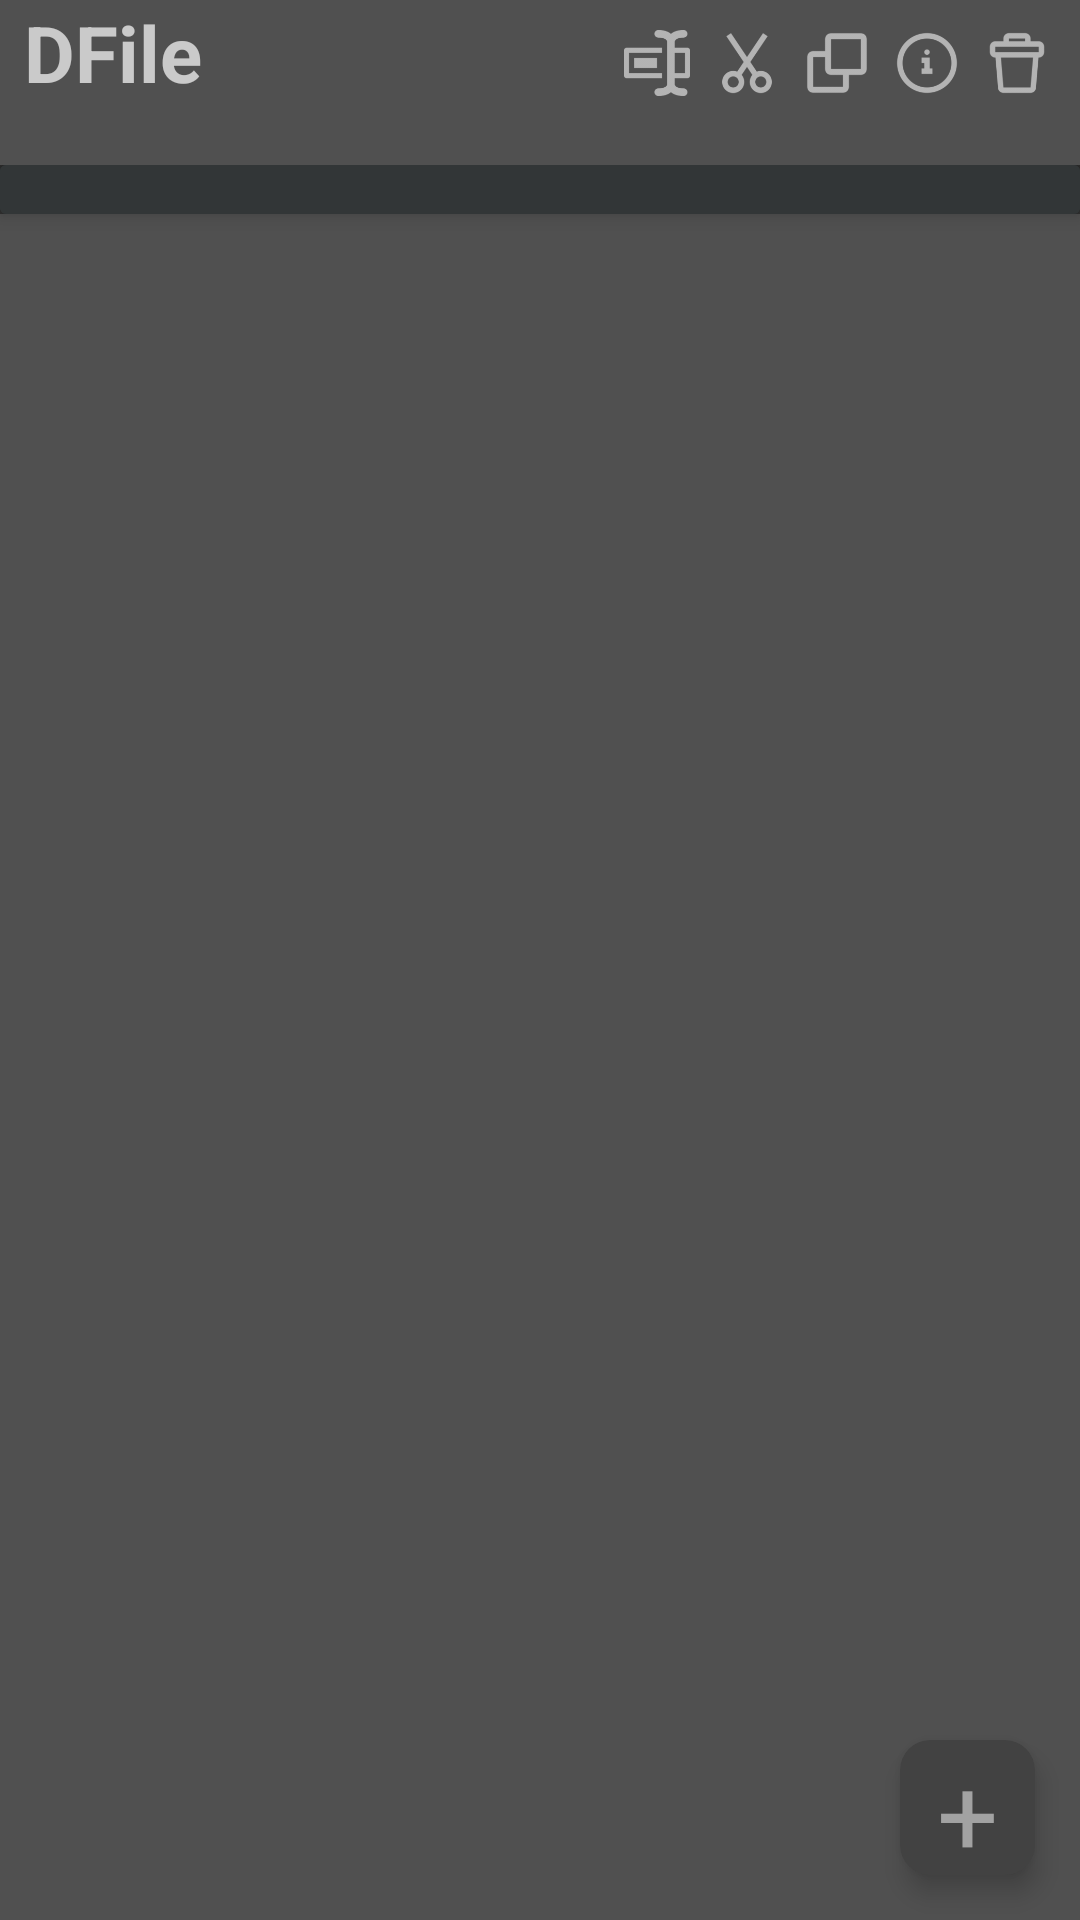

Icons on this 1080 x 1920 Android screen, each with the point to tap as point (x, y):
cut: point (747, 63)
info: point (927, 63)
rename: point (657, 63)
trash: point (1017, 63)
